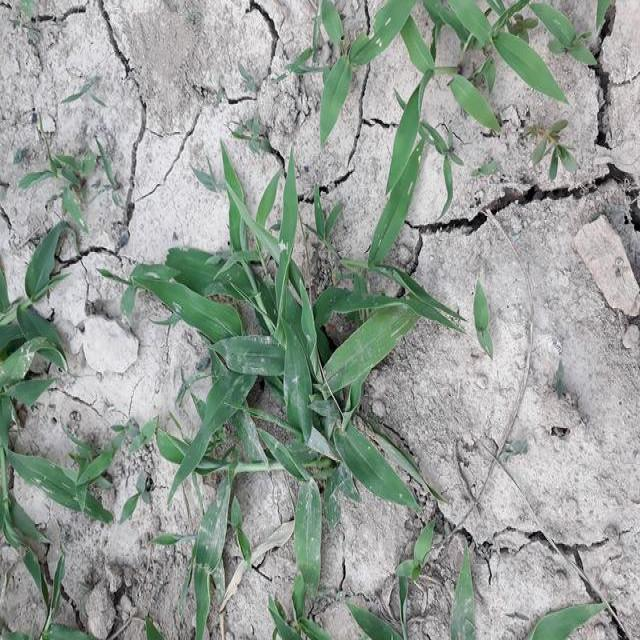weed: (191, 174, 380, 598), (284, 12, 588, 120), (0, 222, 100, 533)
